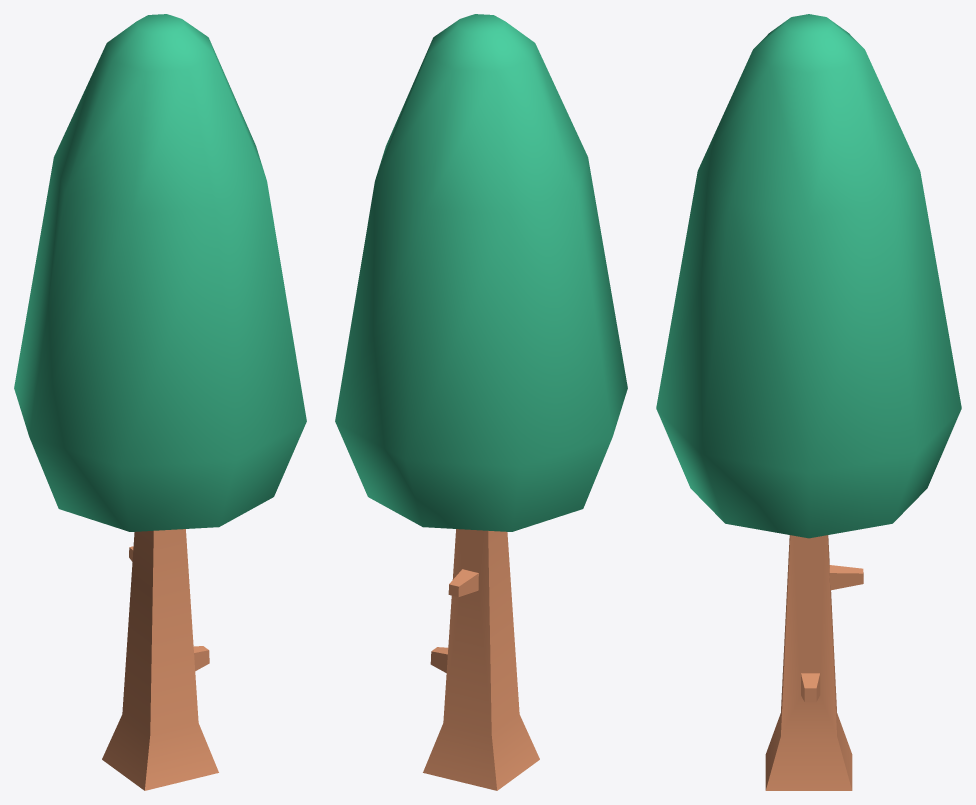
The model's file is treeHighRound.gltf.
3 views of the same model, side by side, from view 1: azimuth 30°, elevation 25°; view 2: azimuth 150°, elevation 25°; view 3: azimuth 270°, elevation 25° (orthographic).
Parts seen in each view (by area): view 1: treeHighRound; view 2: treeHighRound; view 3: treeHighRound.
Part boxes in pixels (left/top/right/bottom): treeHighRound: left=14, top=14, right=306, bottom=790; treeHighRound: left=335, top=14, right=627, bottom=790; treeHighRound: left=656, top=14, right=961, bottom=790.
Size of the model in its own units: 1.02 by 2.75 by 1.02.
